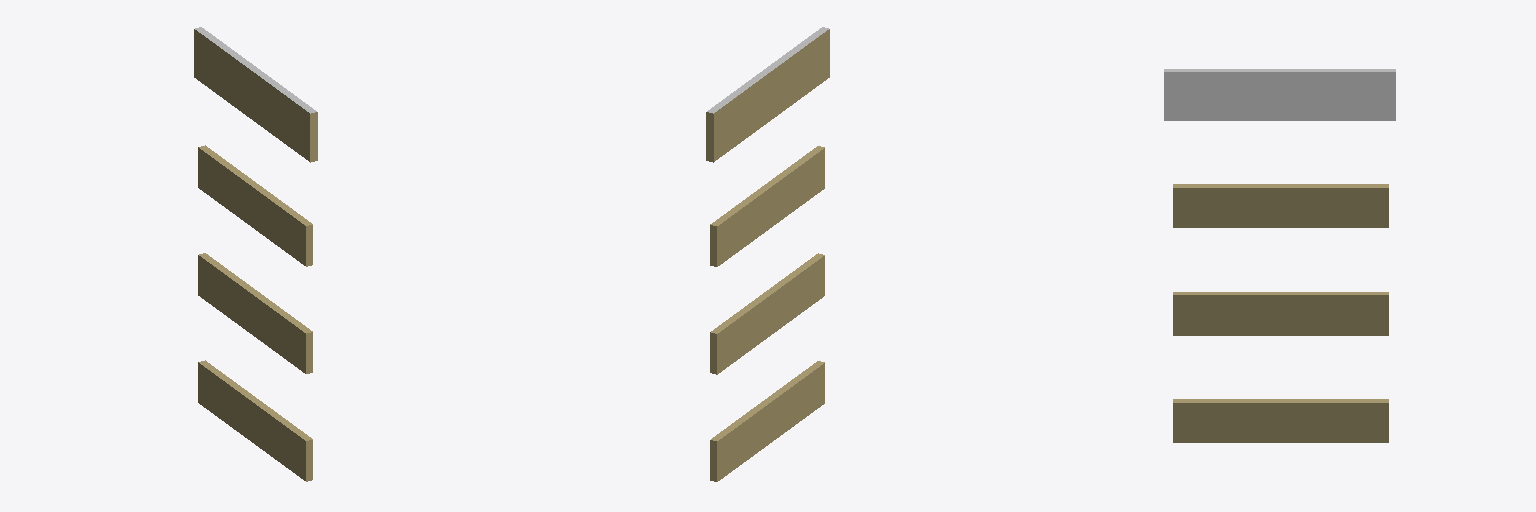
Rendered from balcon_izquierdo_2.obj.
The picture shows the model from 3 angles: view 1: azimuth 30°, elevation 25°; view 2: azimuth 150°, elevation 25°; view 3: azimuth 270°, elevation 25°; orthographic projection.
Visible parts, largest first — view 1: TECHO_4_Cube.033, PISO1.001_Cube.001, PISO1.000_Cube.000, PISO1.002_Cube.002; view 2: TECHO_4_Cube.033, PISO1.002_Cube.002, PISO1.001_Cube.001, PISO1.000_Cube.000; view 3: TECHO_4_Cube.033, PISO1.001_Cube.001, PISO1.000_Cube.000, PISO1.002_Cube.002.
Boxes of the visible parts, x1=… form: TECHO_4_Cube.033: x1=194, y1=27, x2=317, y2=162; PISO1.001_Cube.001: x1=198, y1=253, x2=312, y2=373; PISO1.000_Cube.000: x1=198, y1=360, x2=312, y2=481; PISO1.002_Cube.002: x1=198, y1=145, x2=312, y2=266; TECHO_4_Cube.033: x1=706, y1=27, x2=829, y2=162; PISO1.002_Cube.002: x1=710, y1=146, x2=824, y2=266; PISO1.001_Cube.001: x1=710, y1=253, x2=824, y2=374; PISO1.000_Cube.000: x1=710, y1=361, x2=824, y2=481; TECHO_4_Cube.033: x1=1164, y1=69, x2=1395, y2=120; PISO1.001_Cube.001: x1=1173, y1=292, x2=1388, y2=335; PISO1.000_Cube.000: x1=1173, y1=399, x2=1388, y2=442; PISO1.002_Cube.002: x1=1173, y1=184, x2=1388, y2=227.
Size of the model in its own units: 0.39 by 19 by 10.76.